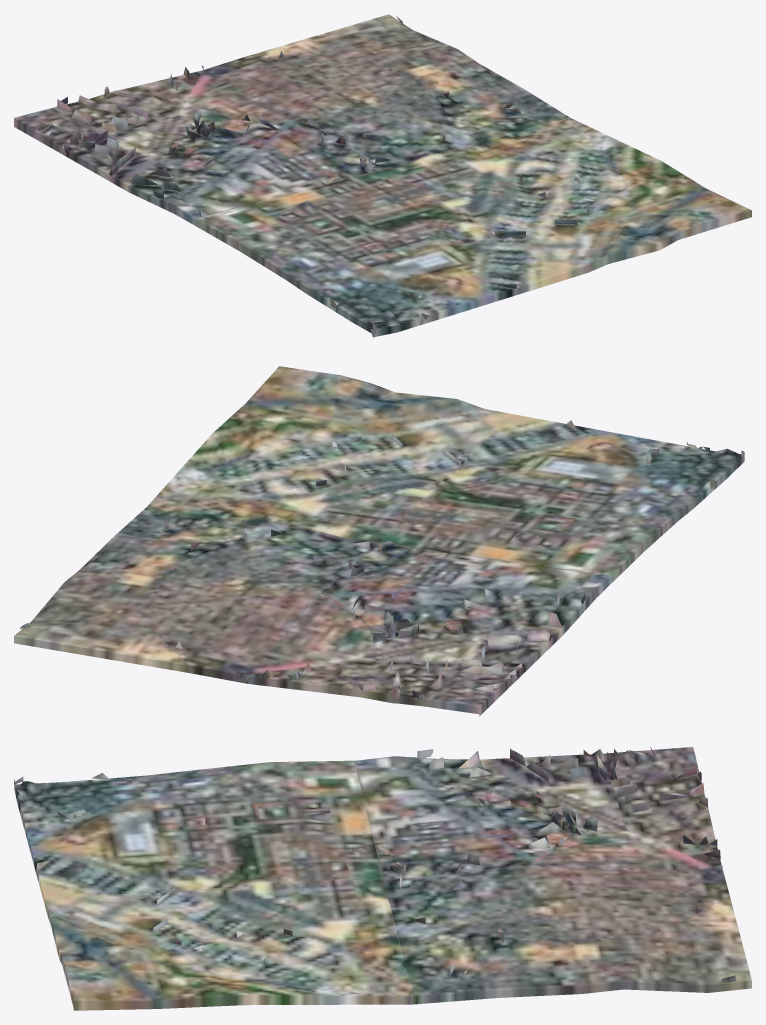
The picture shows the model from 3 angles, top to bottom: view 1: azimuth 30°, elevation 25°; view 2: azimuth 150°, elevation 25°; view 3: azimuth 270°, elevation 25°; orthographic projection. The views are drawn at different scales.
Visible parts, largest first — view 1: Mesh_0; view 2: Mesh_0; view 3: Mesh_0.
Boxes of the visible parts, box(x1,y1,x2,y2) form: Mesh_0: box(14, 14, 751, 337); Mesh_0: box(14, 366, 744, 716); Mesh_0: box(14, 746, 751, 1010).
Bounding box in the file's own units: 2128 × 139 × 2639.
Materials: 1 (1 with a texture image).
